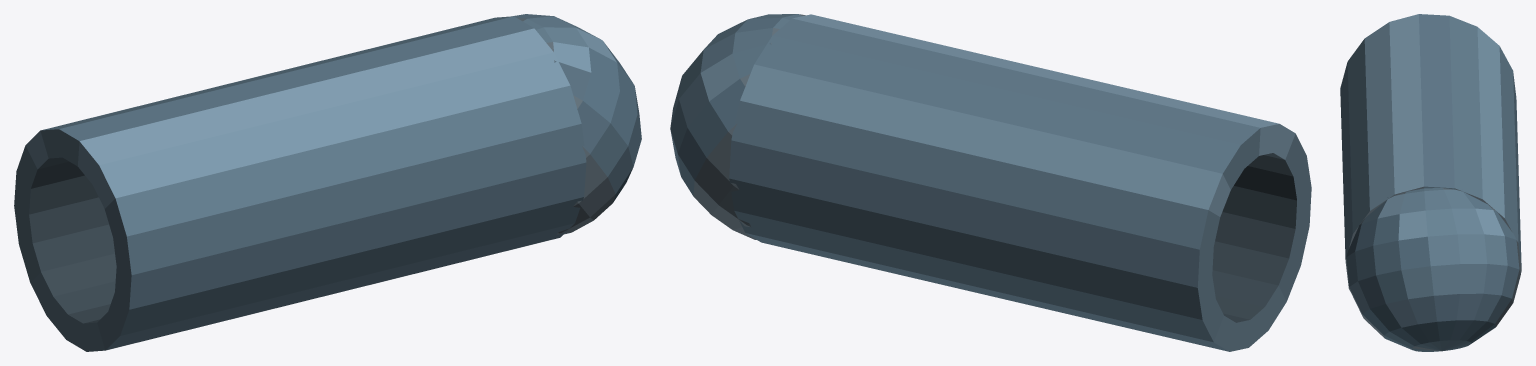
The model's file is schubarrel.obj.
3 views of the same model, side by side, from view 1: azimuth 30°, elevation 25°; view 2: azimuth 150°, elevation 25°; view 3: azimuth 270°, elevation 25° (orthographic). The views are drawn at different scales.
Visible parts, largest first — view 1: sphere.001; view 2: sphere.001; view 3: sphere.001.
Boxes of the visible parts, x1,y1,x2,y2 form: sphere.001: (14,14,641,351); sphere.001: (670,14,1311,351); sphere.001: (1340,14,1521,351).
Bounding box in the file's own units: 1.47 × 0.5242 × 0.538.
1 material, 1 textured.
